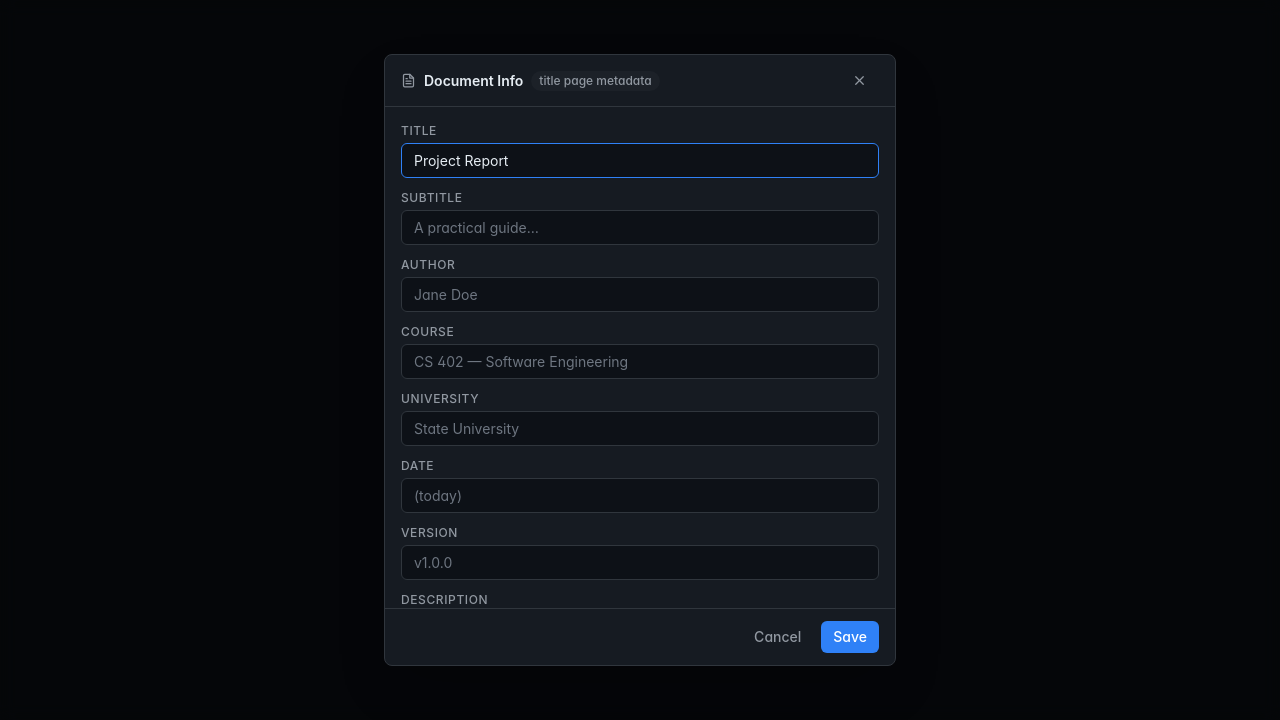
metadata dialog › seeds the title from the current metadata and saves changes
Type "Renamed Document" into the field with placeholder "Project Report" at (640,160), box x1=401 y1=143 x2=879 y2=178
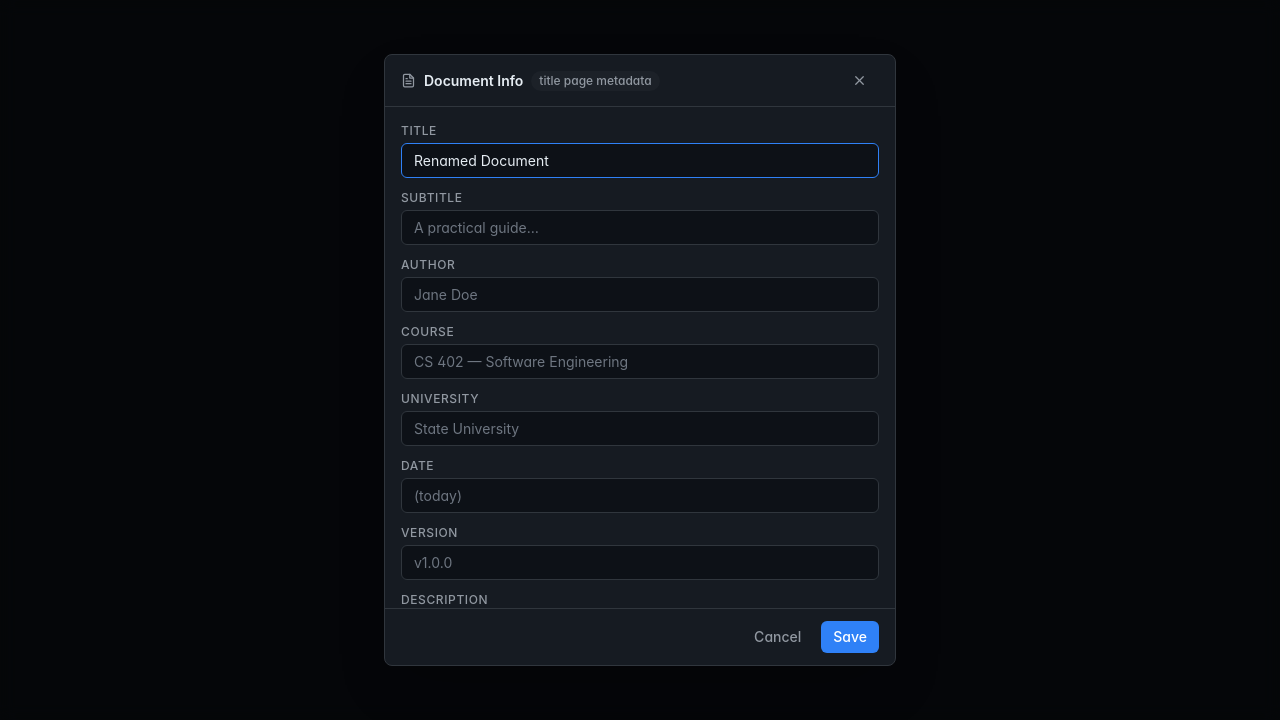
Click the button "Save" at (850,637), box x1=821 y1=621 x2=879 y2=653
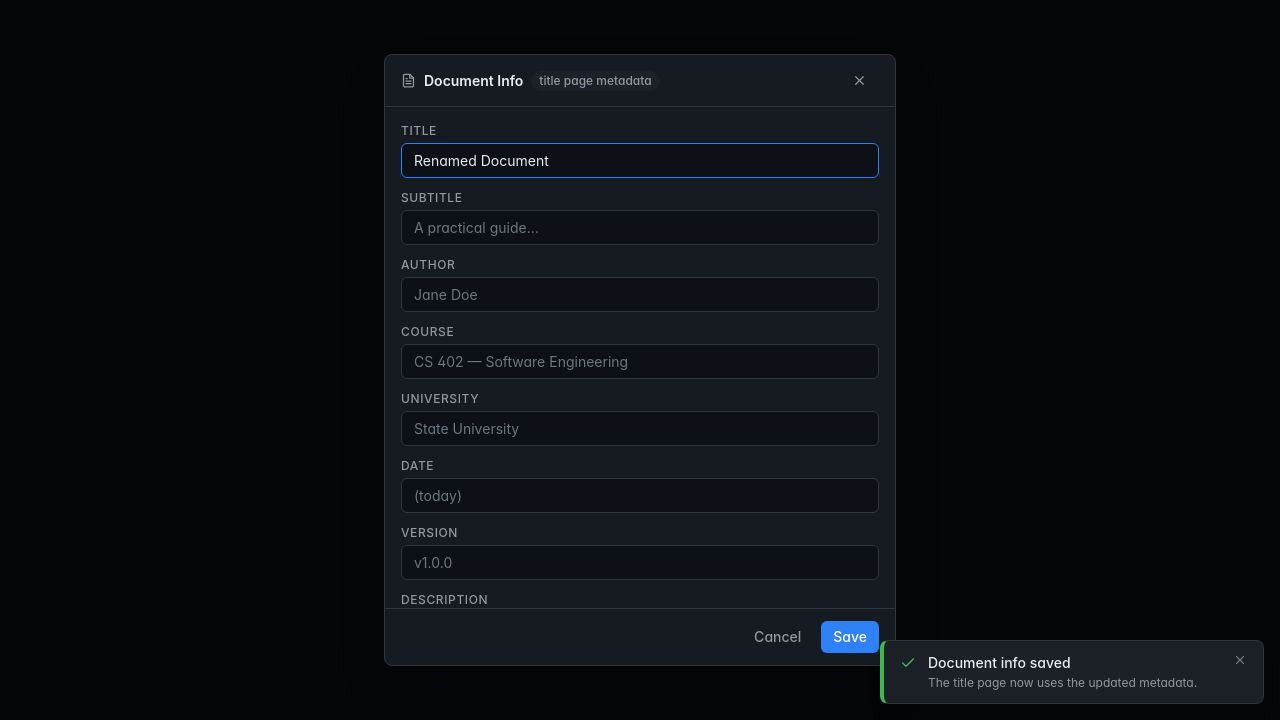
Expected: the text "Document info saved" is shown, x1=928 y1=654 x2=1071 y2=671
